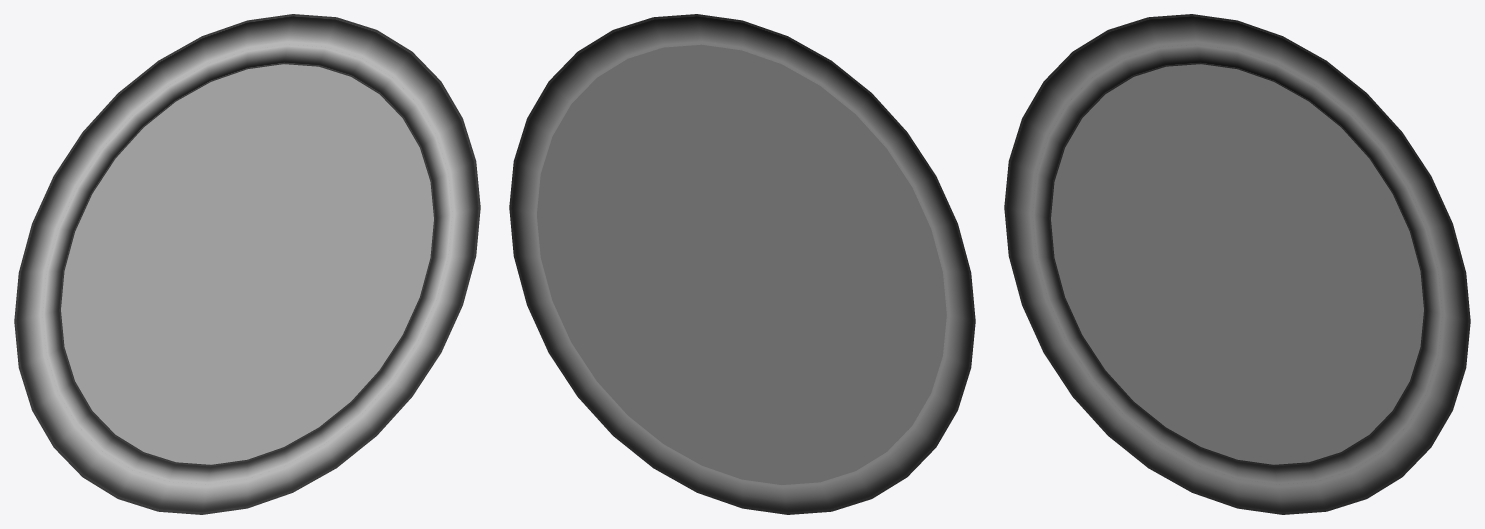
The model's file is CircelImage.fbx.
3 views of the same model, side by side, from view 1: azimuth 30°, elevation 25°; view 2: azimuth 150°, elevation 25°; view 3: azimuth 330°, elevation 25° (orthographic).
Parts seen in each view (by area): view 1: CircleImage, CircleImageGlow; view 2: CircleImage, CircleImageGlow; view 3: CircleImage, CircleImageGlow.
Boxes of the visible parts, x1,y1,x2,y2 form: CircleImage: [61, 64, 433, 464]; CircleImageGlow: [14, 14, 480, 514]; CircleImage: [537, 44, 946, 484]; CircleImageGlow: [509, 14, 975, 514]; CircleImage: [1051, 64, 1423, 464]; CircleImageGlow: [1004, 14, 1470, 514].
Bounding box in the file's own units: 1.19 × 1.19 × 0.00288.
